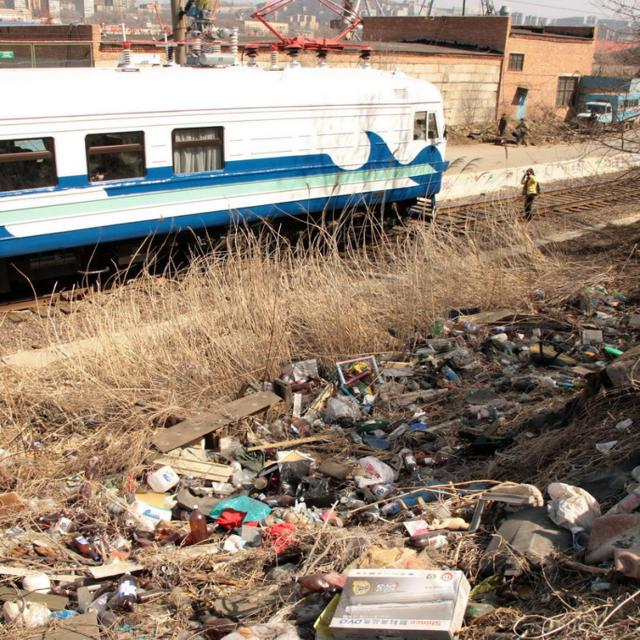lixeira: (430, 310, 639, 492), (266, 356, 381, 548), (383, 348, 498, 538), (0, 494, 145, 639), (470, 481, 639, 564), (150, 428, 264, 546), (343, 565, 467, 638), (285, 575, 345, 639), (558, 287, 639, 309)
